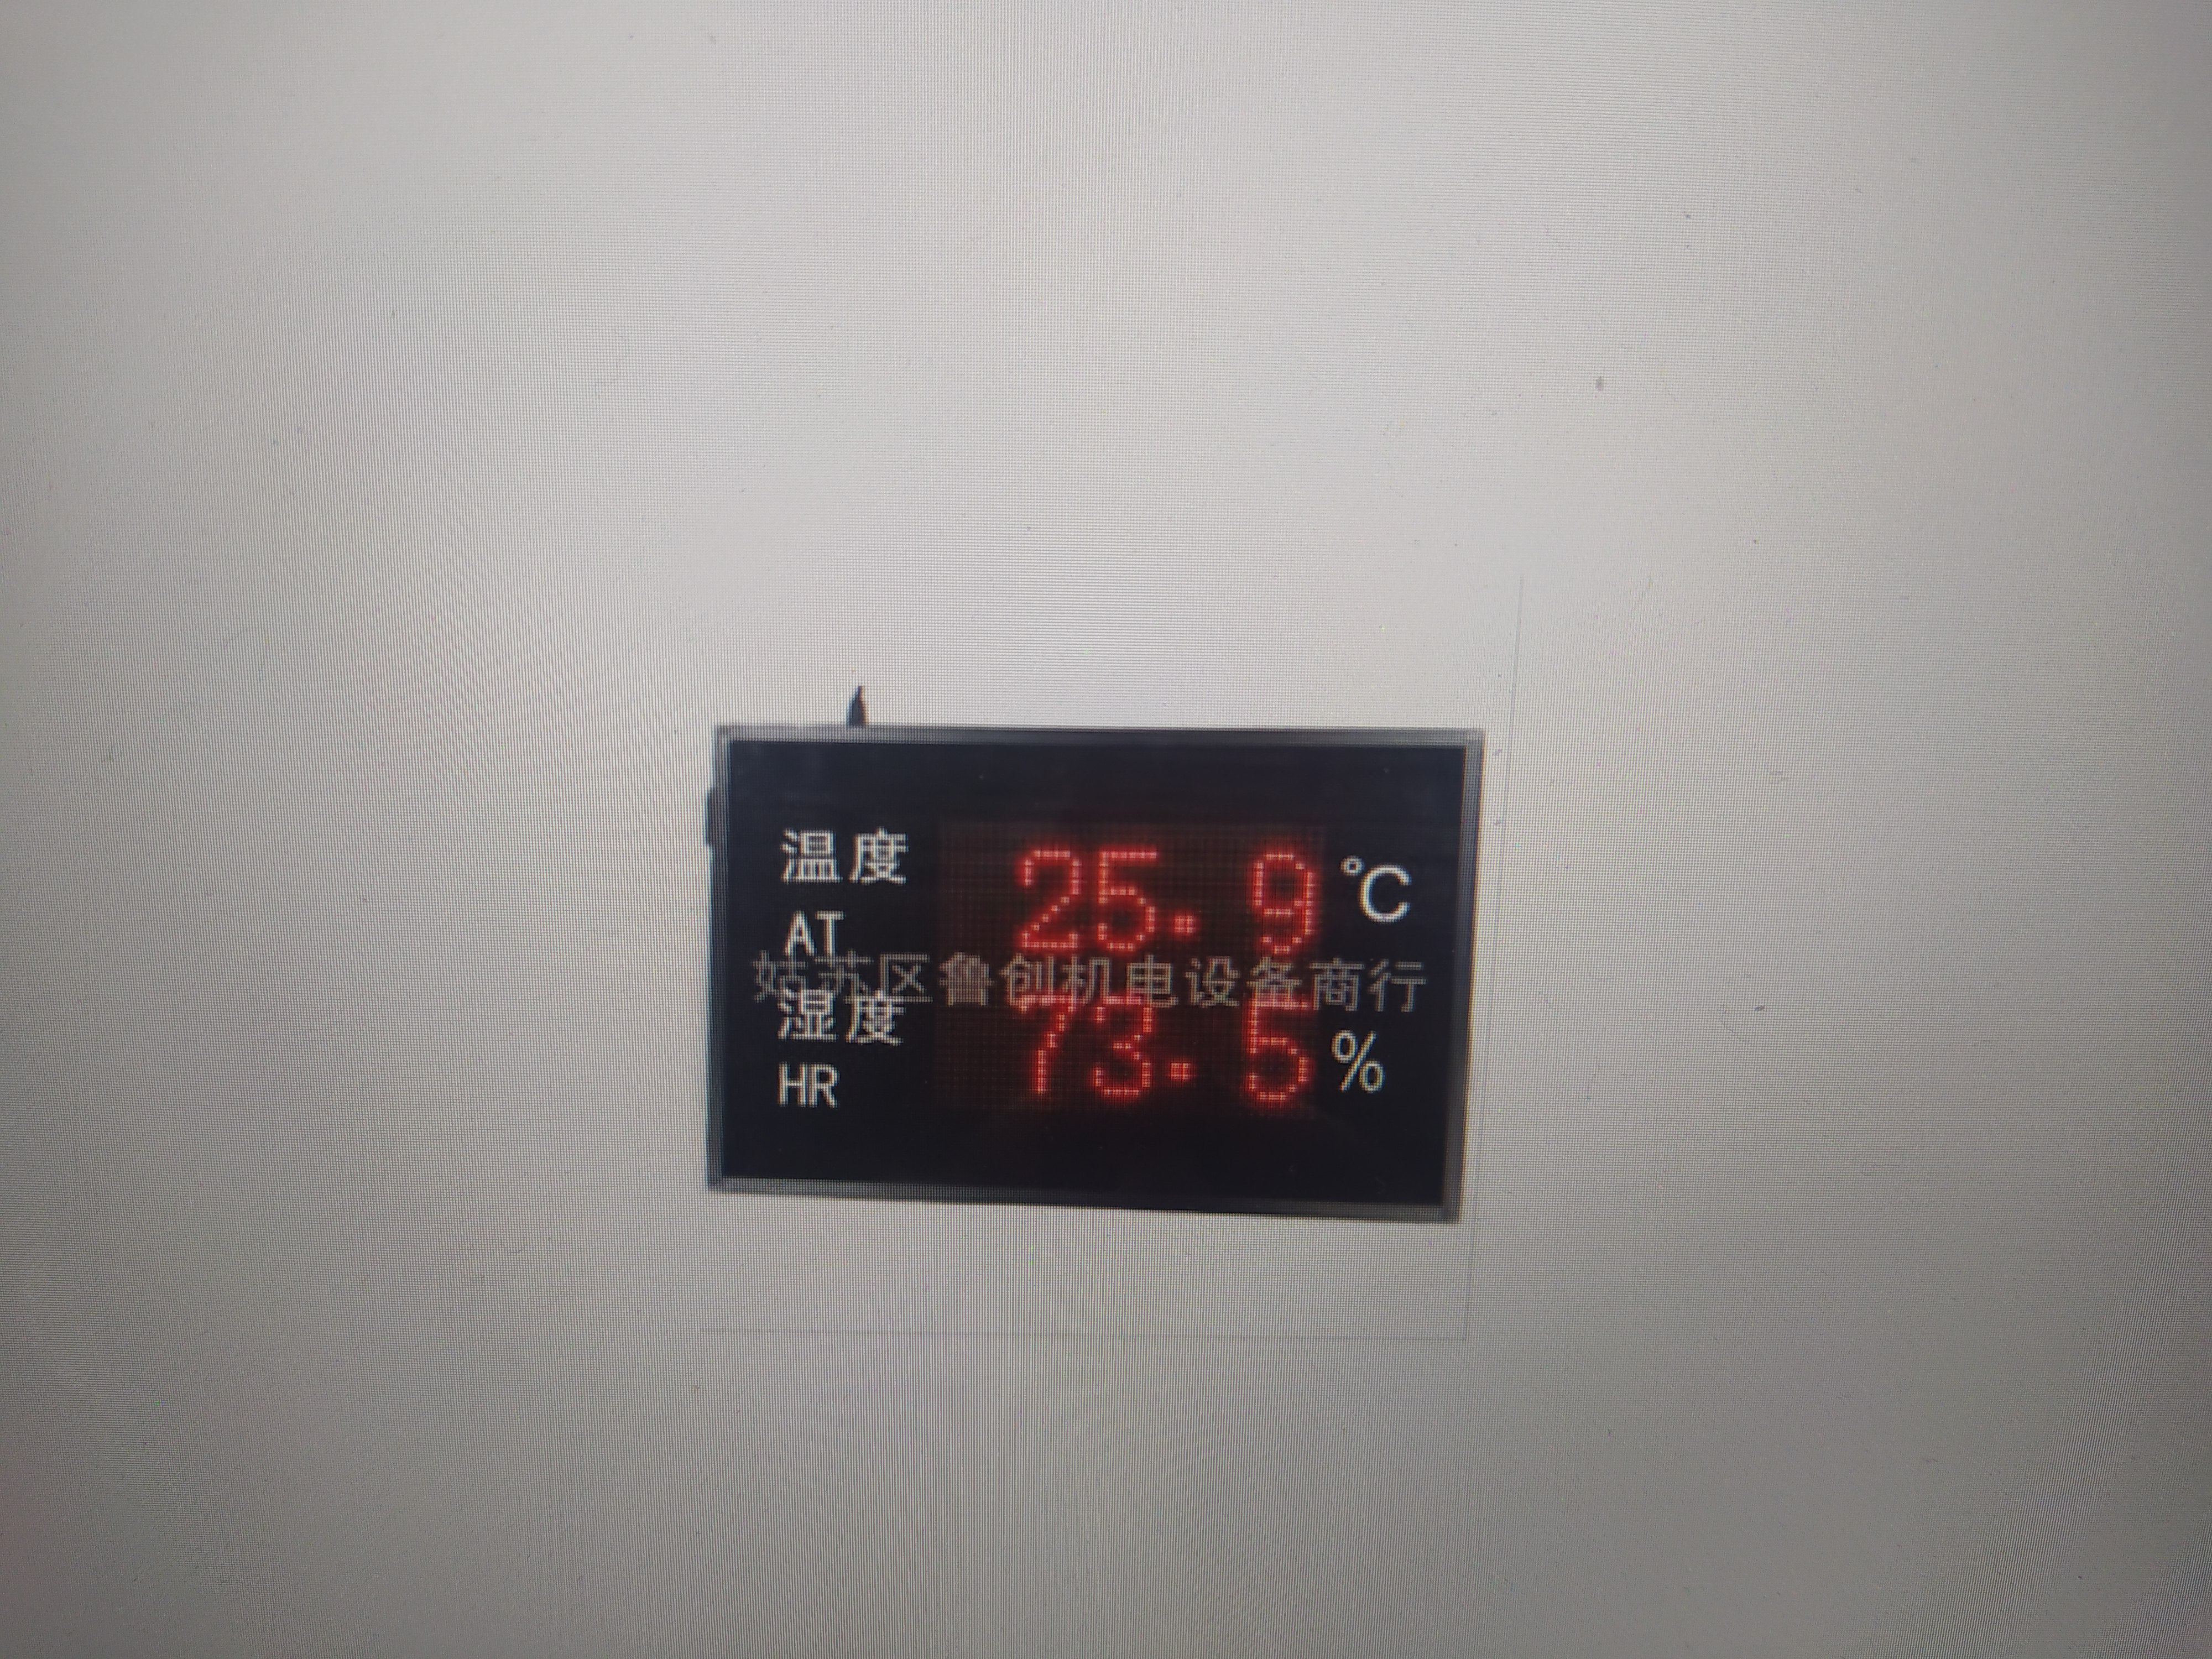.: (1169, 840, 1205, 955), (1163, 985, 1200, 1098)
2: (1007, 840, 1085, 953)
3: (1087, 985, 1158, 1103)
5: (1237, 979, 1312, 1105), (1090, 838, 1160, 957)
7: (1005, 983, 1083, 1100)
9: (1237, 836, 1318, 957)
